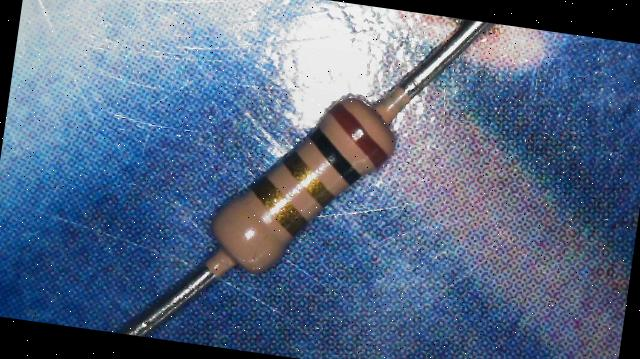black: (302, 126, 364, 184)
brown: (323, 102, 394, 168)
gold: (276, 150, 339, 206), (246, 176, 308, 230)
resistor: (175, 59, 429, 303)
